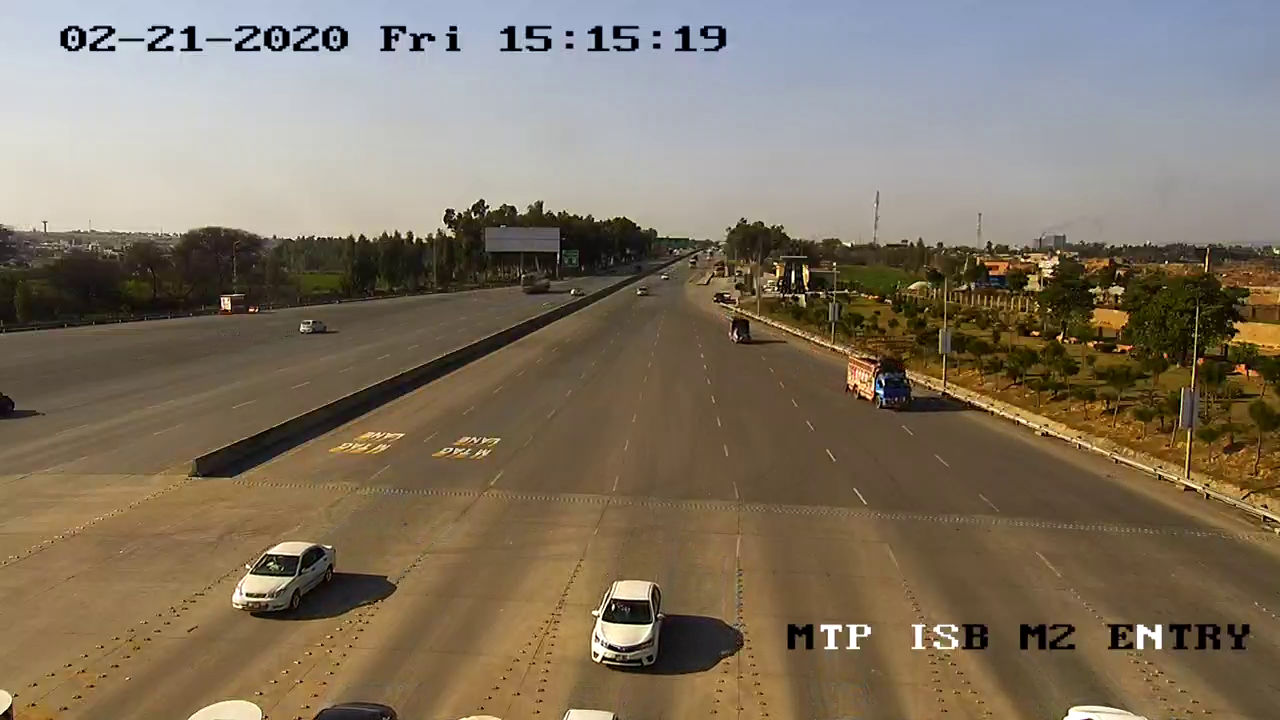f1: (227, 538, 345, 621), (581, 574, 677, 674)
